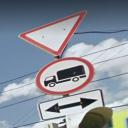preferencia: (16, 9, 88, 59)
